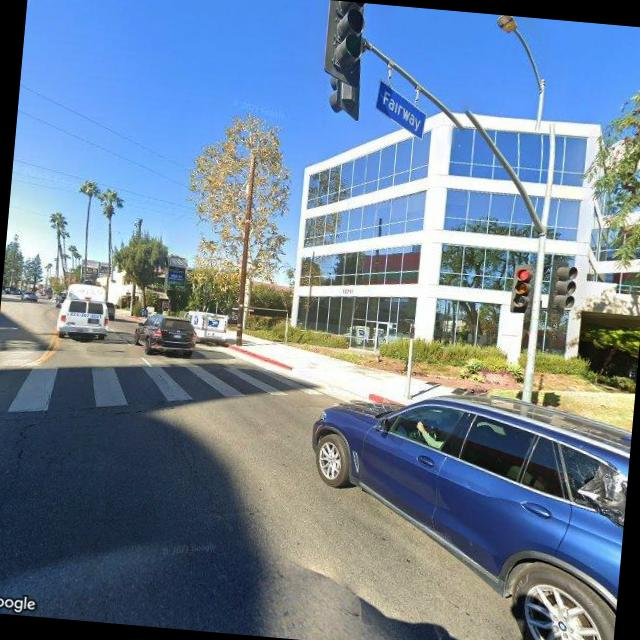pothole: (6, 414, 37, 482)
